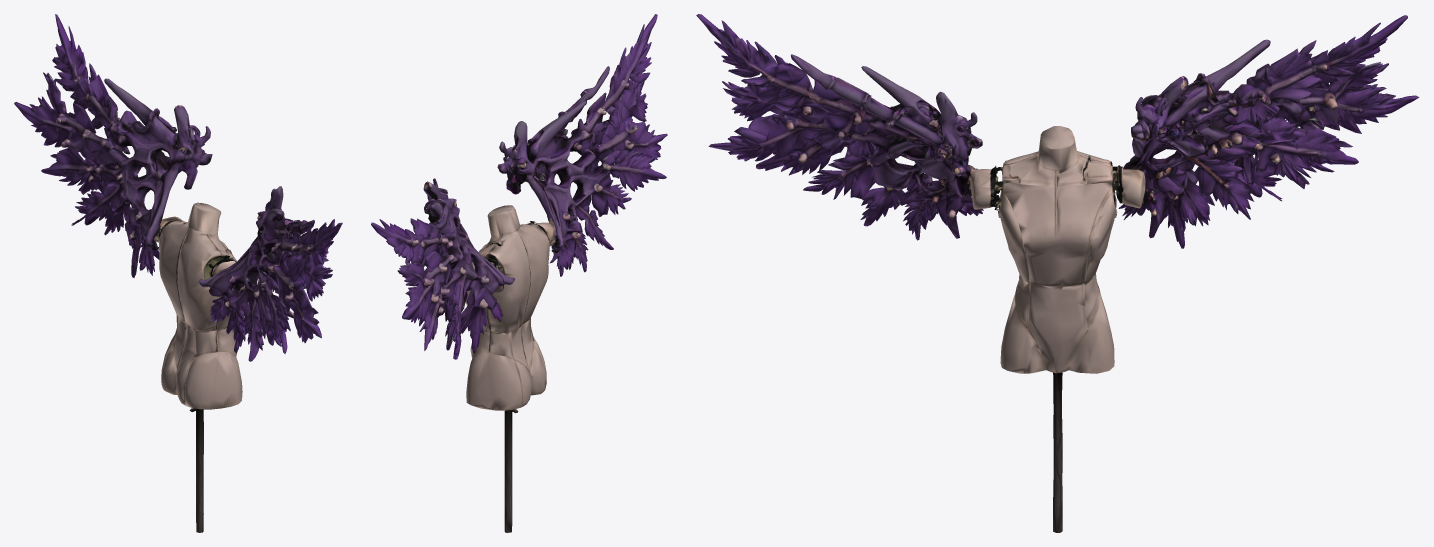
File: tripo_h31_mannequin_wings_attachment_kit.glb
The picture shows the model from 3 angles, left to right: view 1: azimuth 30°, elevation 25°; view 2: azimuth 150°, elevation 25°; view 3: azimuth 270°, elevation 25°; orthographic projection. The views are drawn at different scales.
Parts seen in each view (by area): view 1: tripo_node_5b3f6353-c1f5-4282-a697-0f77d018eee9; view 2: tripo_node_5b3f6353-c1f5-4282-a697-0f77d018eee9; view 3: tripo_node_5b3f6353-c1f5-4282-a697-0f77d018eee9.
Part boxes in pixels (x1,y1,x2,y2): tripo_node_5b3f6353-c1f5-4282-a697-0f77d018eee9: [14, 14, 342, 532]; tripo_node_5b3f6353-c1f5-4282-a697-0f77d018eee9: [371, 14, 667, 532]; tripo_node_5b3f6353-c1f5-4282-a697-0f77d018eee9: [696, 14, 1419, 532].
Size of the model in its own units: 0.1654 by 0.7743 by 0.9861.
Materials: 1 (1 with a texture image).
